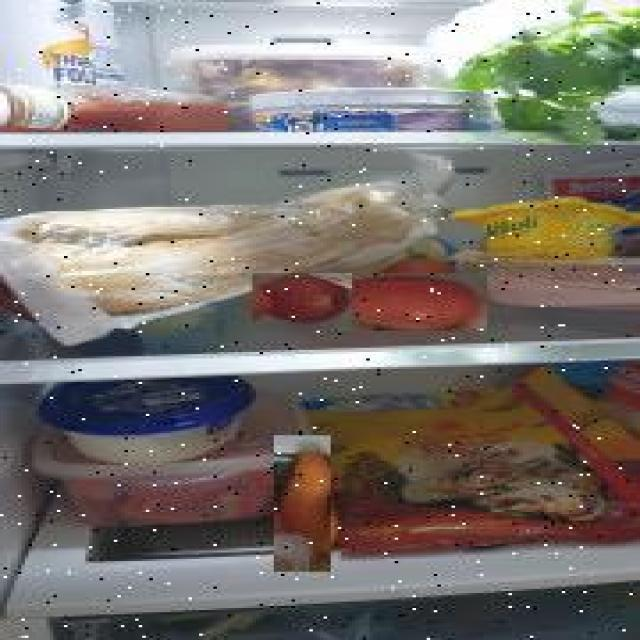carrot: (276, 435, 332, 572)
cheese: (249, 88, 498, 134)
tomato: (339, 273, 489, 331), (254, 272, 354, 326), (382, 256, 475, 286)
tortillas: (306, 407, 640, 557)
